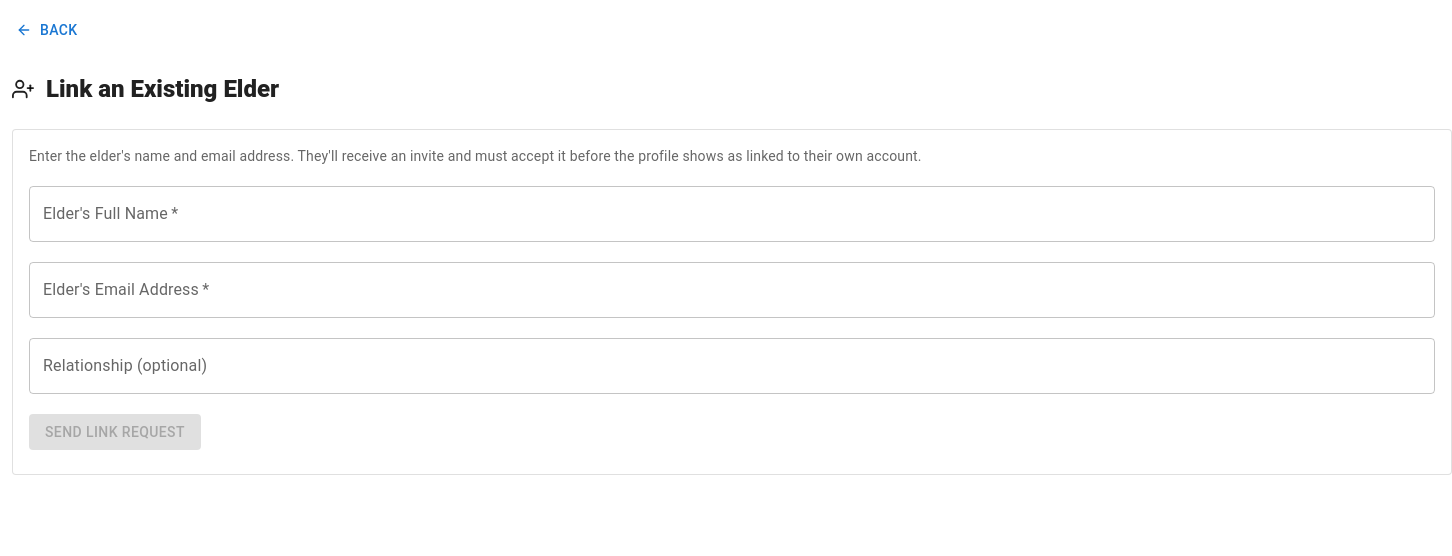
Test: LinkElderProfile.page › shows an error message when sending the invite fails
Type "Grandma Rose" into the field labelled "Elder's Full Name *" at point(732, 214), box [29, 186, 1435, 242]
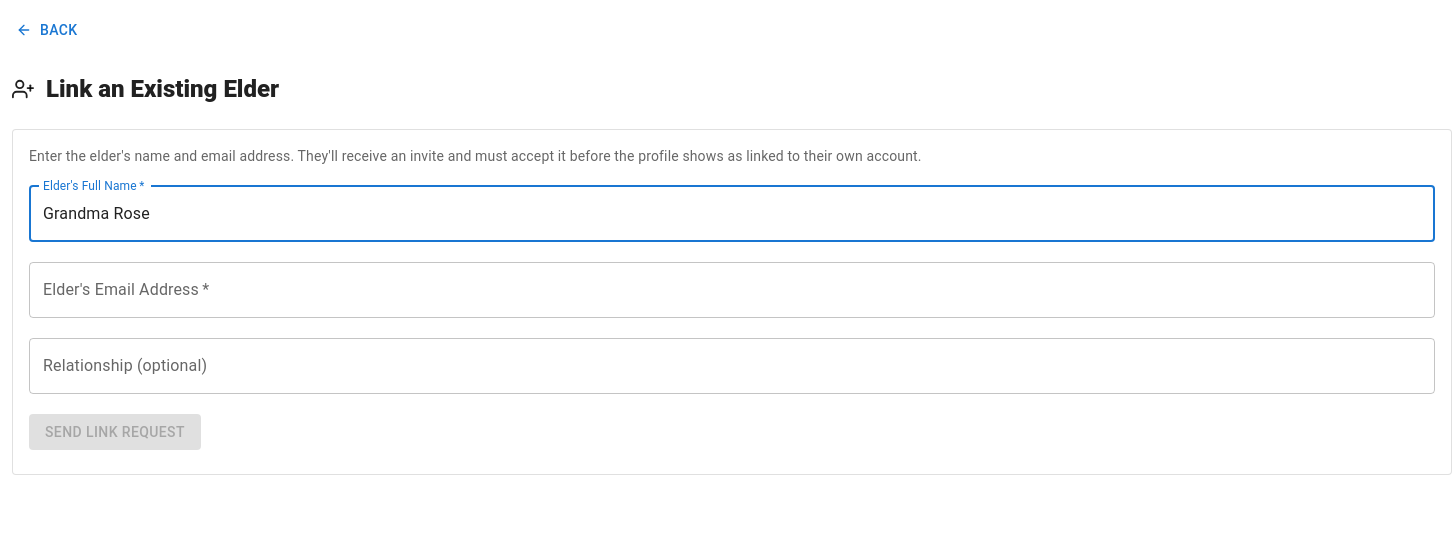
Type "rose@example.com" into the field labelled "Elder's Email Address *" at point(732, 290), box [29, 262, 1435, 318]
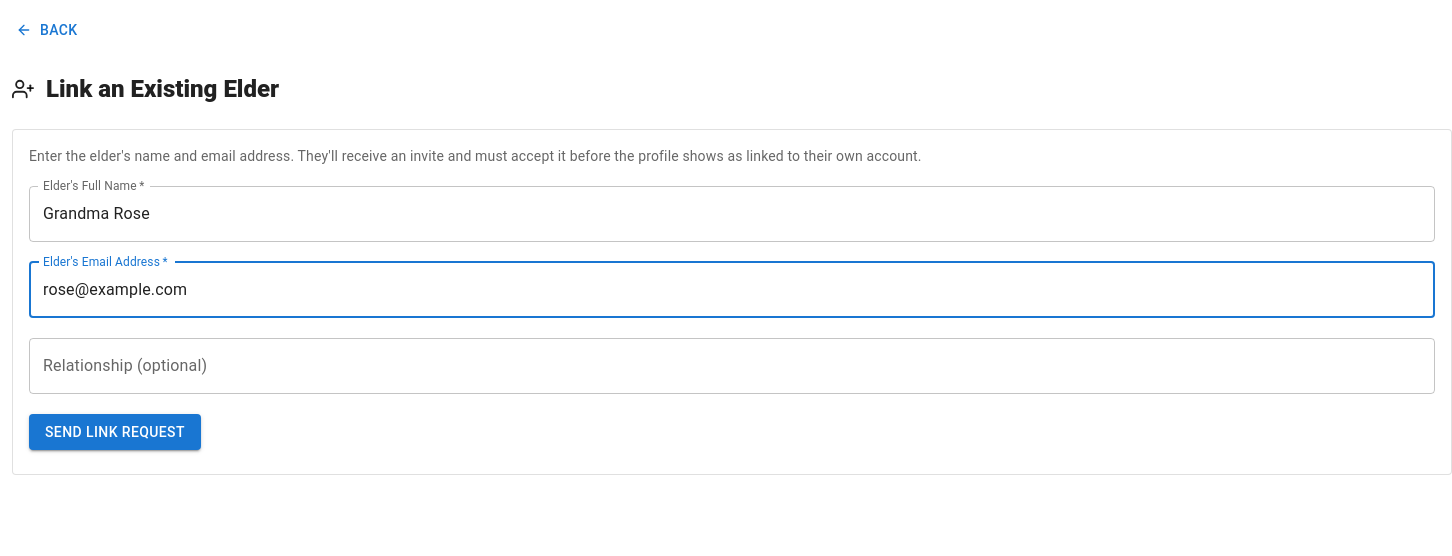
Click the button "Send Link Request" at point(115, 432), box [29, 414, 201, 450]
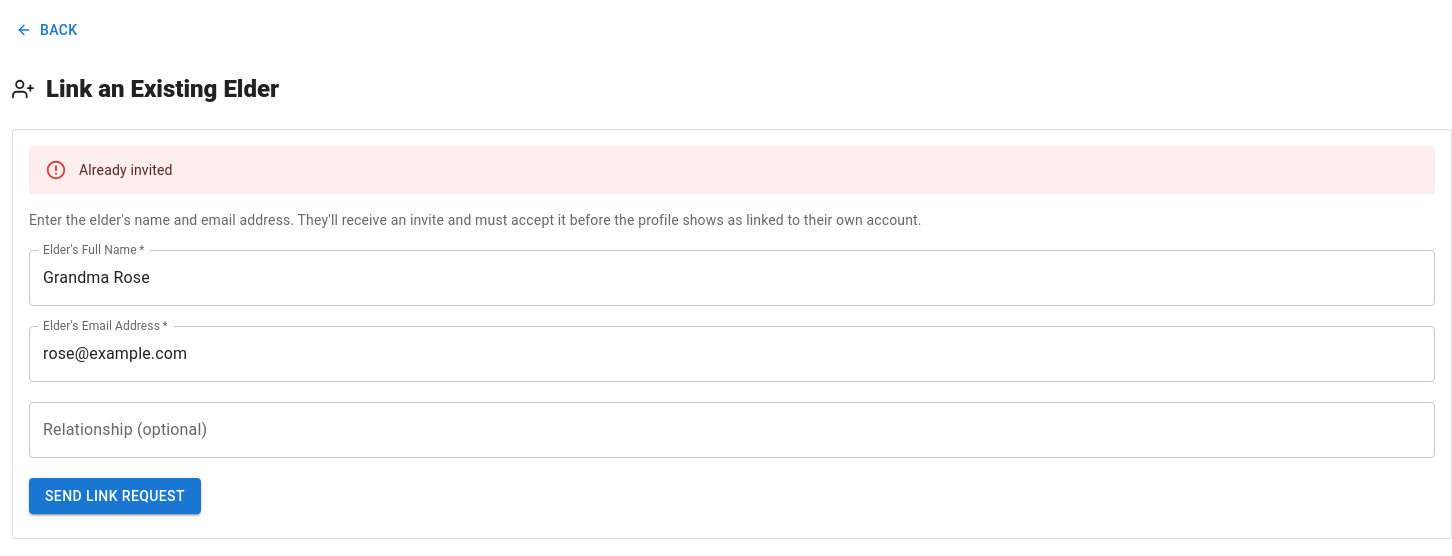
Check: the text "Already invited" is shown, box [79, 162, 173, 178]
